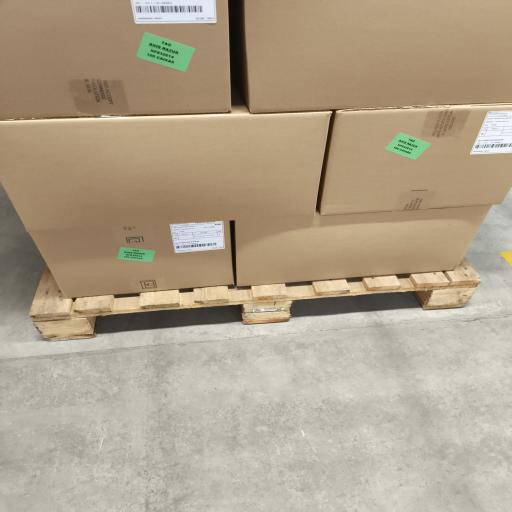pallet: (31, 260, 480, 340)
